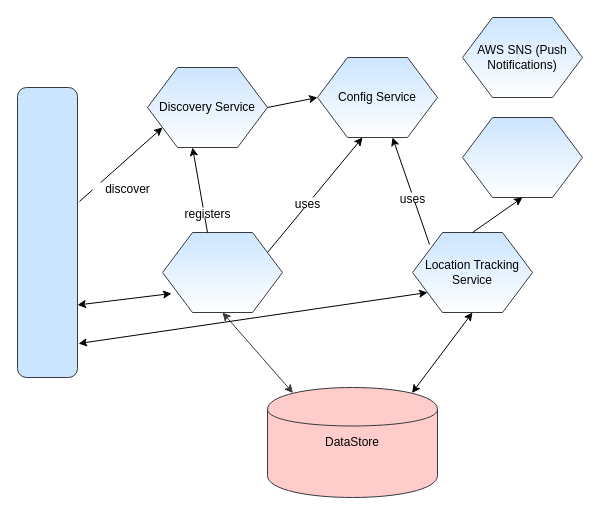
Some shapes in this 600 by 515 pixel diagram are drawn without their labels. The centre of each missing label's shape, as x and y in pixels:
API GATEWAY(Zuul Proxy): point (47, 232)
Booking Service: point (222, 272)
Google MAP Service: point (522, 157)
